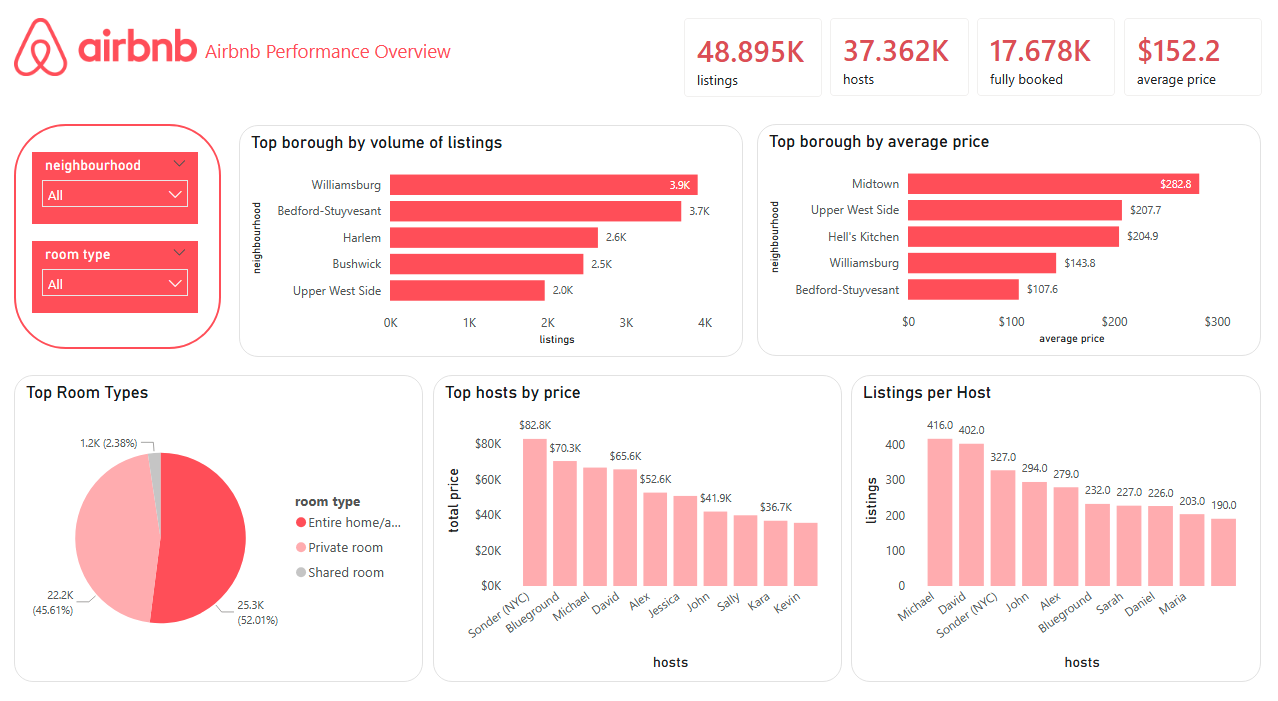

This screenshot's page, from the dashboard's own definition file:
{"tool":"powerbi","page":{"name":"Overview","canvas":[1280,720],"ordinal":0},"visuals":[{"type":"shape","box":[15.1,125,206.7,224.9],"z":0},{"type":"cardVisual","fields":{"Data":["CountNonNull(AB_NYC_2019.id)"]},"box":[667.9,1.6,172.4,112.9],"z":1000},{"type":"cardVisual","fields":{"Data":["Avg(AB_NYC_2019.price)"]},"box":[1107.6,2.1,172.4,111.9],"z":2000},{"type":"cardVisual","fields":{"Data":["Count(AB_NYC_2019.host_id)"]},"box":[814.4,2.1,172.4,111.9],"z":3000},{"type":"slicer","fields":{"Values":["AB_NYC_2019.neighbourhood_group"]},"box":[33.3,153.3,165.4,71.6],"z":5000},{"type":"clusteredBarChart","title":"Top borough by volume of listings","fields":{"Y":["Count(AB_NYC_2019.id)"],"Category":["AB_NYC_2019.neighbourhood"]},"box":[240,126.1,504.2,231.9],"z":6000},{"type":"image","box":[15.1,9.1,182.5,77.6],"z":7000},{"type":"cardVisual","fields":{"Data":["CountNonNull(AB_NYC_2019.id)"]},"box":[961,2.1,172.4,111.9],"z":8000},{"type":"slicer","fields":{"Values":["AB_NYC_2019.room_type"]},"box":[33.3,242,165.4,71.6],"z":9000},{"type":"clusteredBarChart","title":"Top borough by average price","fields":{"Category":["AB_NYC_2019.neighbourhood"],"Y":["Avg(AB_NYC_2019.price)"]},"box":[757.6,125,504.2,231.9],"z":10000},{"type":"clusteredColumnChart","title":"Listings per Host","fields":{"Y":["CountNonNull(AB_NYC_2019.id)"],"Category":["AB_NYC_2019.host_name"]},"box":[852.4,376.1,409.4,306.6],"z":11000},{"type":"clusteredColumnChart","title":"Top hosts by price","fields":{"Category":["AB_NYC_2019.host_name"],"Y":["Sum(AB_NYC_2019.price)"]},"box":[433.6,376.1,409.4,306.6],"z":12000},{"type":"pieChart","title":"Top Room Types","fields":{"Category":["AB_NYC_2019.room_type"],"Y":["CountNonNull(AB_NYC_2019.room_type)"]},"box":[15.1,376.1,409,306.6],"z":13000},{"type":"textbox","box":[200.7,34.3,260.2,40.3],"z":13001}]}

Visuals, with their boxes in screenshot pixels (x1, y1, x2, y2), scaled from the page's 1280x720 canvas onto the 1278x701 screenshot:
shape: Rect(15, 122, 221, 341)
cardVisual - CountNonNull(AB_NYC_2019.id): Rect(667, 2, 839, 111)
cardVisual - Avg(AB_NYC_2019.price): Rect(1106, 2, 1277, 111)
cardVisual - Count(AB_NYC_2019.host_id): Rect(813, 2, 985, 111)
slicer - AB_NYC_2019.neighbourhood_group: Rect(33, 149, 198, 219)
"Top borough by volume of listings" clusteredBarChart: Rect(240, 123, 743, 349)
image: Rect(15, 9, 197, 84)
cardVisual - CountNonNull(AB_NYC_2019.id): Rect(959, 2, 1132, 111)
slicer - AB_NYC_2019.room_type: Rect(33, 236, 198, 305)
"Top borough by average price" clusteredBarChart: Rect(756, 122, 1260, 347)
"Listings per Host" clusteredColumnChart: Rect(851, 366, 1260, 665)
"Top hosts by price" clusteredColumnChart: Rect(433, 366, 842, 665)
"Top Room Types" pieChart: Rect(15, 366, 423, 665)
textbox: Rect(200, 33, 460, 73)
